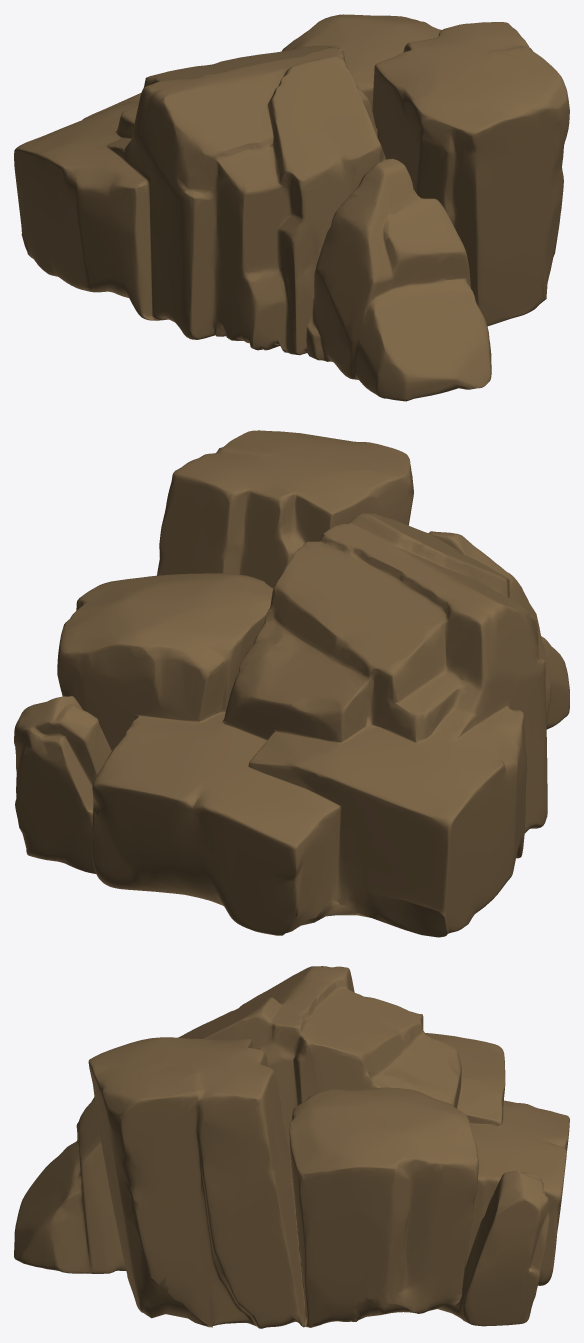
3 renders of one model, top to bottom at view 1: azimuth 30°, elevation 25°; view 2: azimuth 150°, elevation 25°; view 3: azimuth 270°, elevation 25°, orthographic. The views are drawn at different scales.
Parts seen in each view (by area): view 1: SM_BM_Cliff_Bottom_02_LOD0; view 2: SM_BM_Cliff_Bottom_02_LOD0; view 3: SM_BM_Cliff_Bottom_02_LOD0.
Part boxes in pixels (box(x1,y1,x2,y2)): SM_BM_Cliff_Bottom_02_LOD0: box(14, 14, 569, 401); SM_BM_Cliff_Bottom_02_LOD0: box(14, 430, 569, 937); SM_BM_Cliff_Bottom_02_LOD0: box(14, 966, 569, 1328).
Size of the model in its own units: 6.73 by 4.07 by 8.62.
